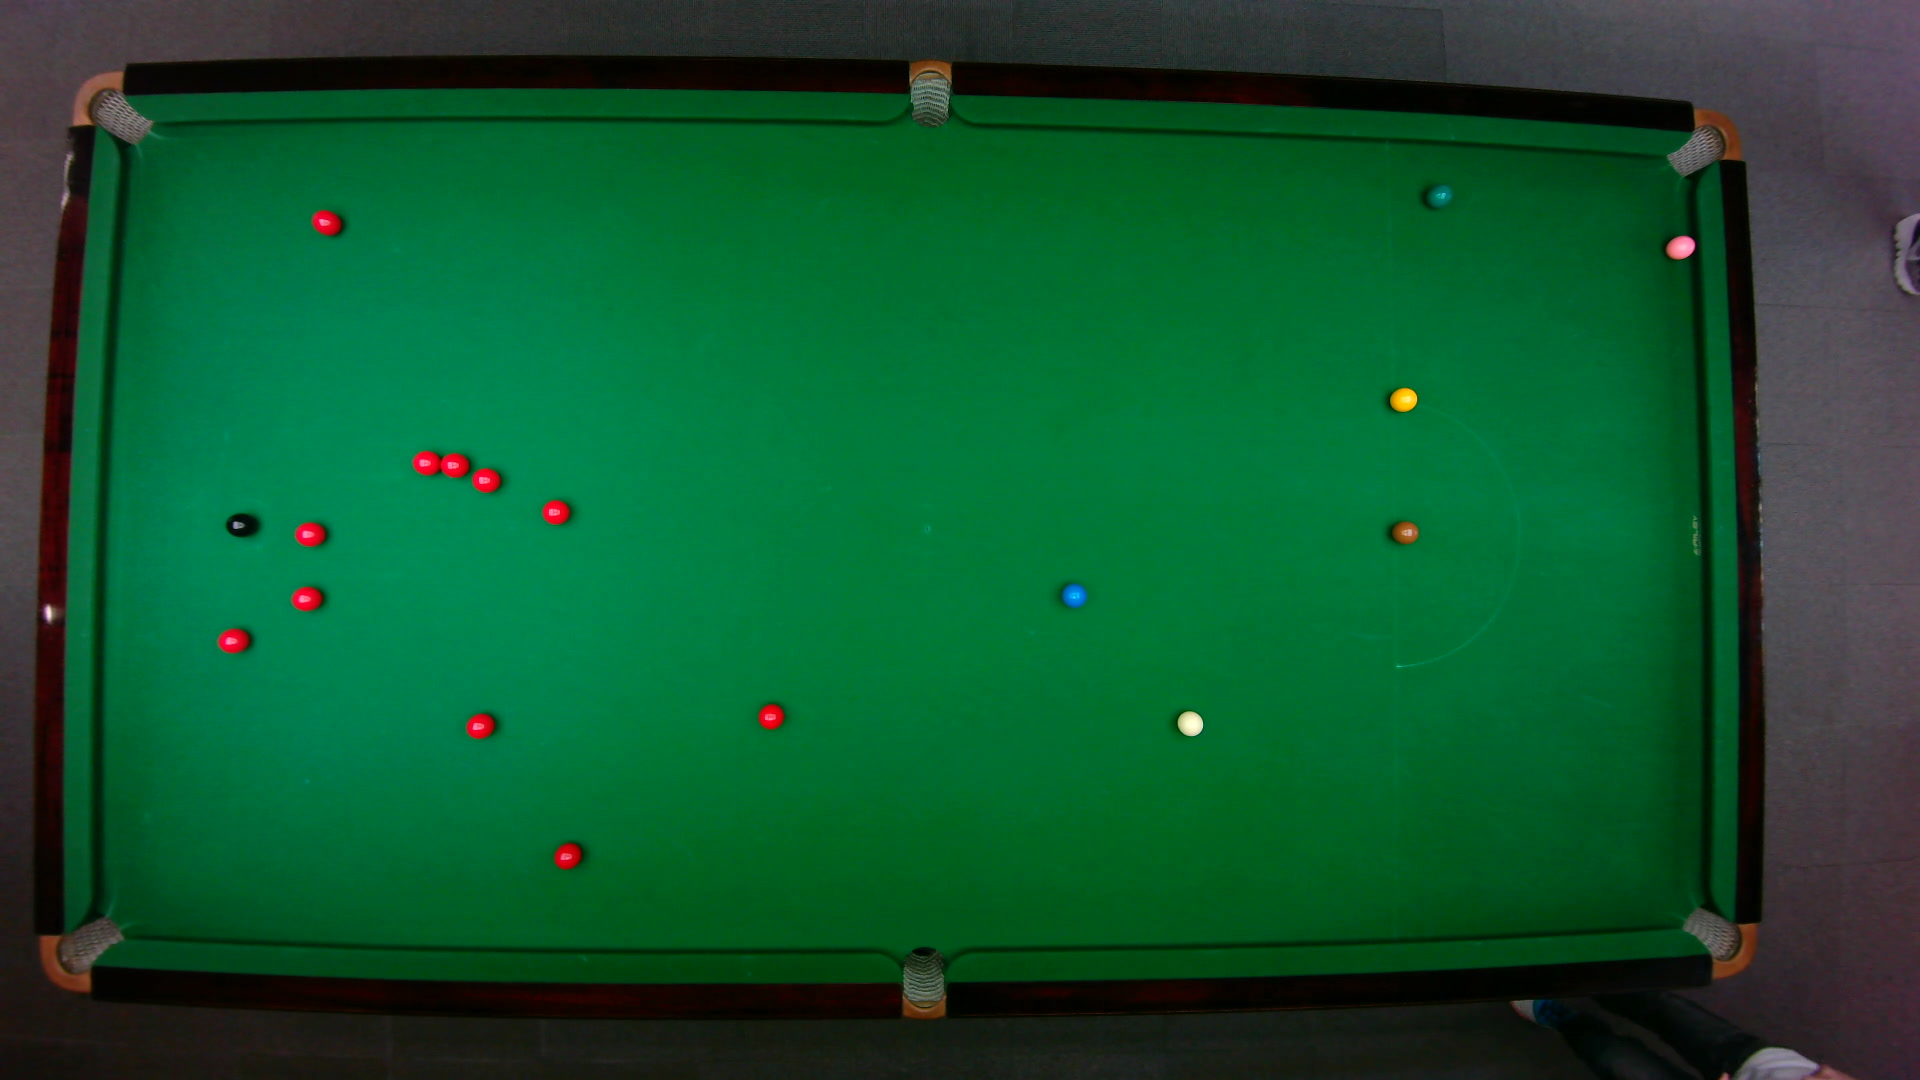bag: (37, 914, 125, 993), (69, 69, 153, 145), (1677, 905, 1756, 978), (1663, 105, 1742, 177), (901, 944, 944, 1021), (909, 57, 949, 128)
black: (223, 512, 256, 538)
blue: (1059, 582, 1087, 607)
brown: (1390, 520, 1419, 545)
green: (1422, 182, 1453, 208)
pink: (1663, 232, 1697, 260)
red: (551, 839, 583, 870), (215, 625, 251, 653), (287, 584, 323, 612), (291, 520, 326, 547), (310, 207, 342, 236), (469, 465, 501, 493), (464, 711, 496, 738), (756, 702, 785, 731), (439, 450, 469, 477), (410, 448, 440, 475), (541, 498, 570, 525)
white: (1174, 709, 1204, 737)
yellow: (1387, 385, 1418, 411)
zone: (1390, 400, 1520, 667)
